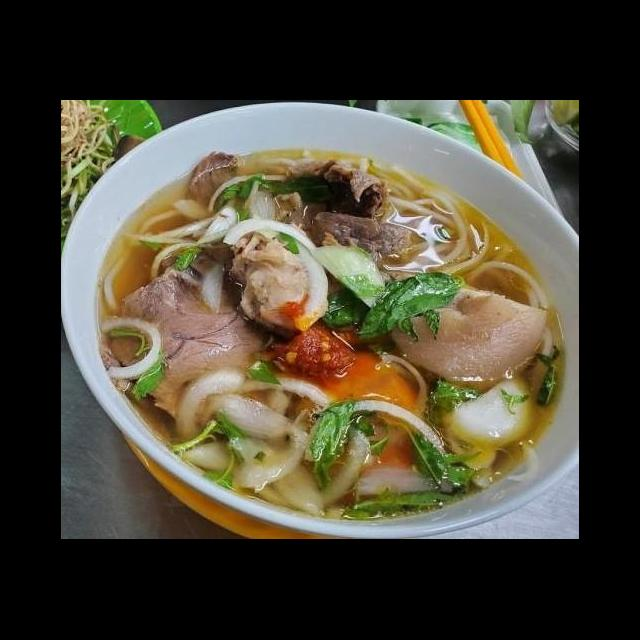bun: (100, 195, 188, 318), (388, 160, 477, 278), (452, 214, 552, 314)
bun bo: (90, 132, 579, 540)
thit bo: (97, 242, 278, 440), (280, 156, 417, 272), (183, 148, 251, 214)
